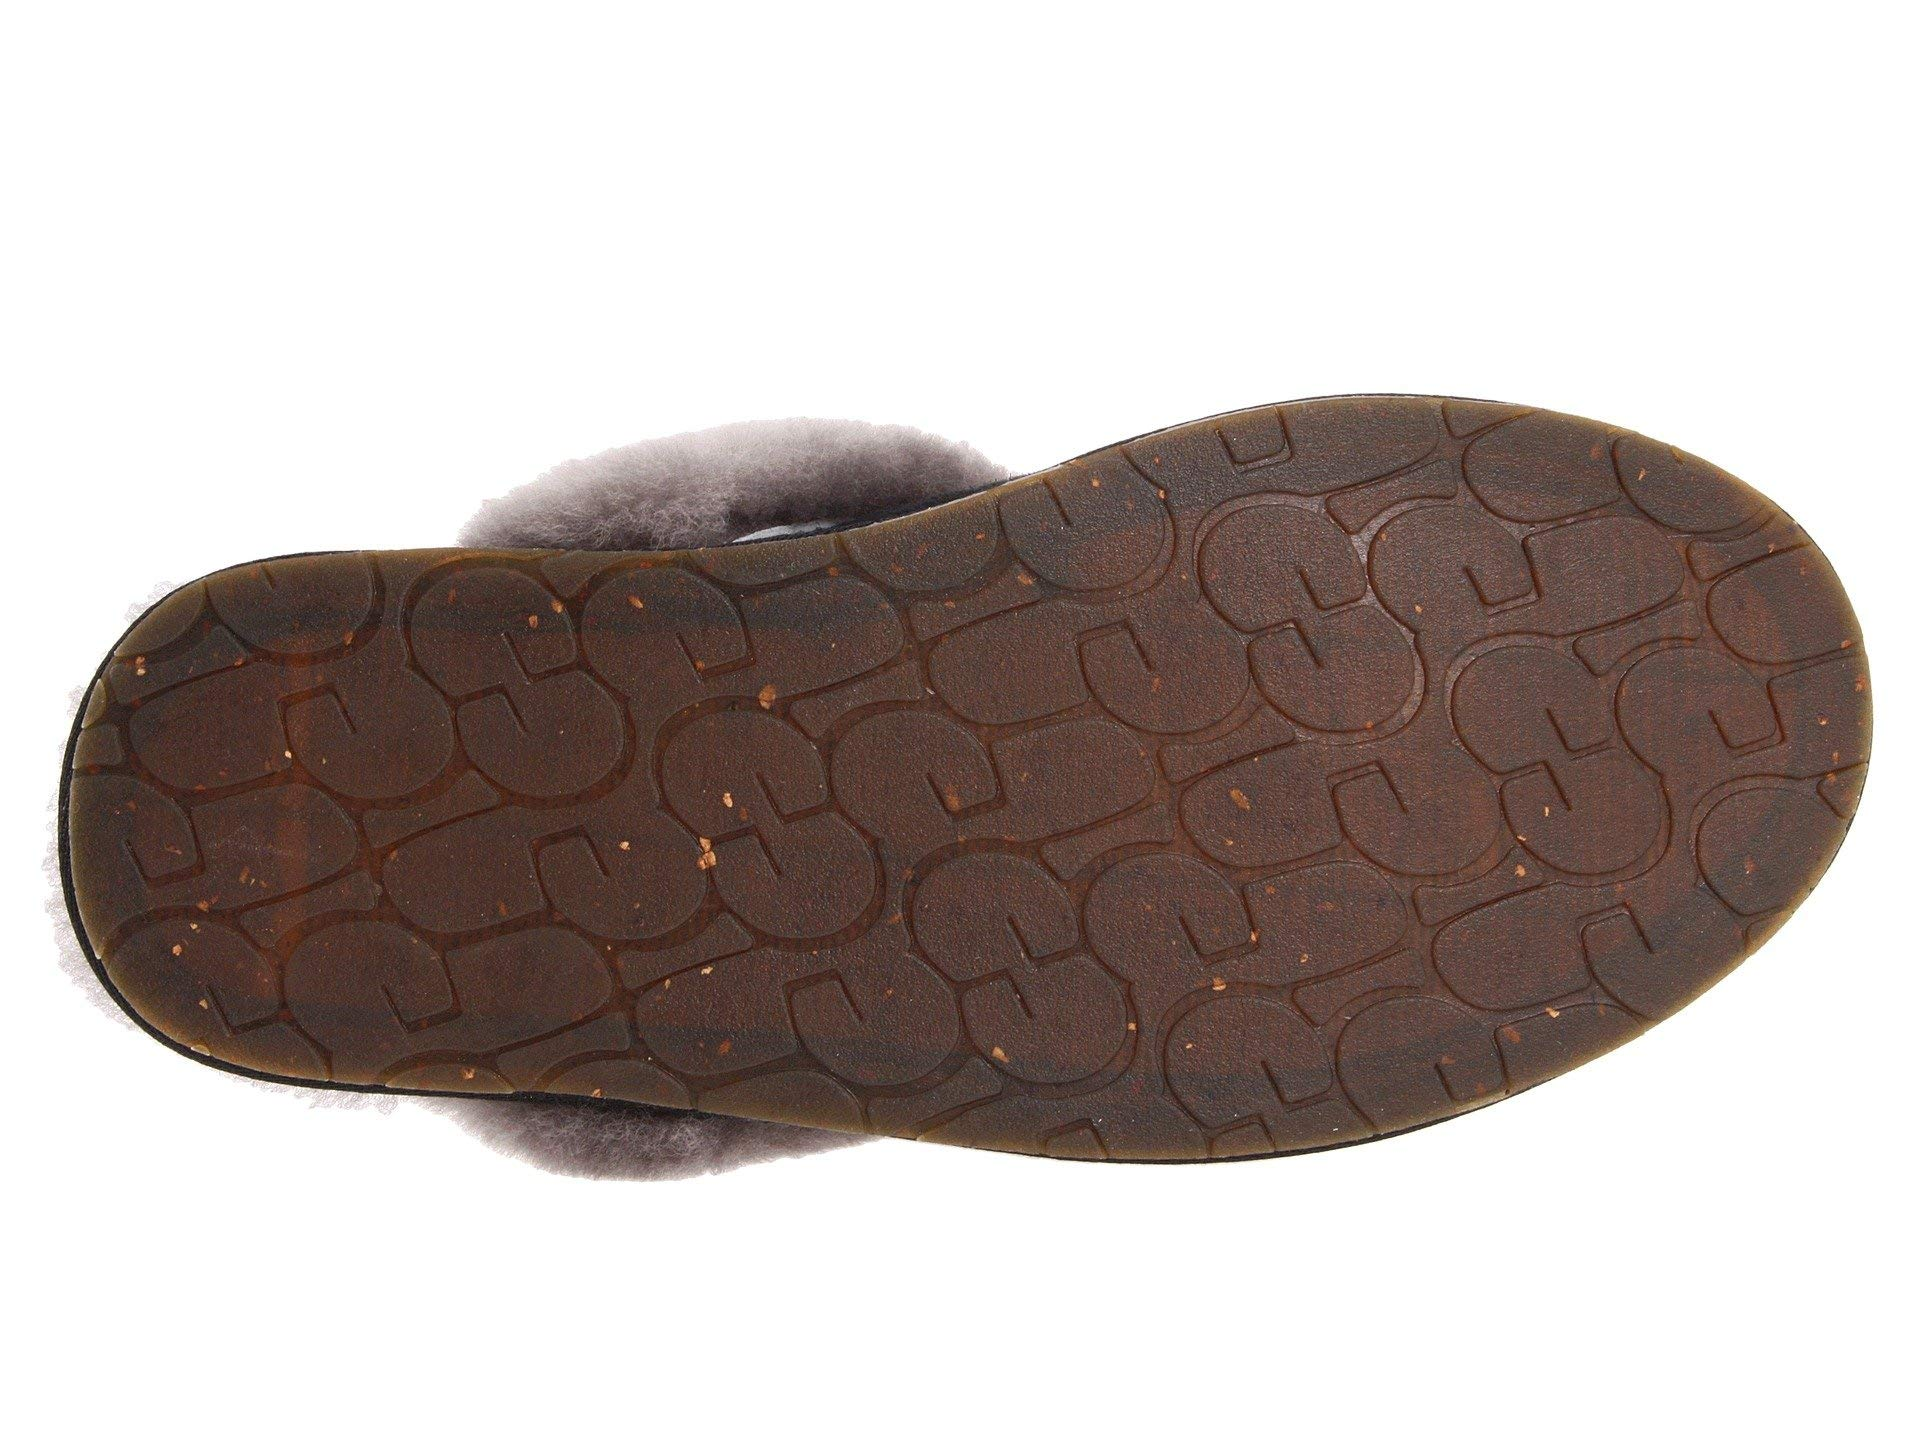other: (1123, 425, 1739, 1004), (206, 614, 904, 1015)
quad: (1123, 425, 1739, 1004), (206, 614, 904, 1015)
text: (1123, 425, 1739, 1004), (206, 614, 904, 1015)
